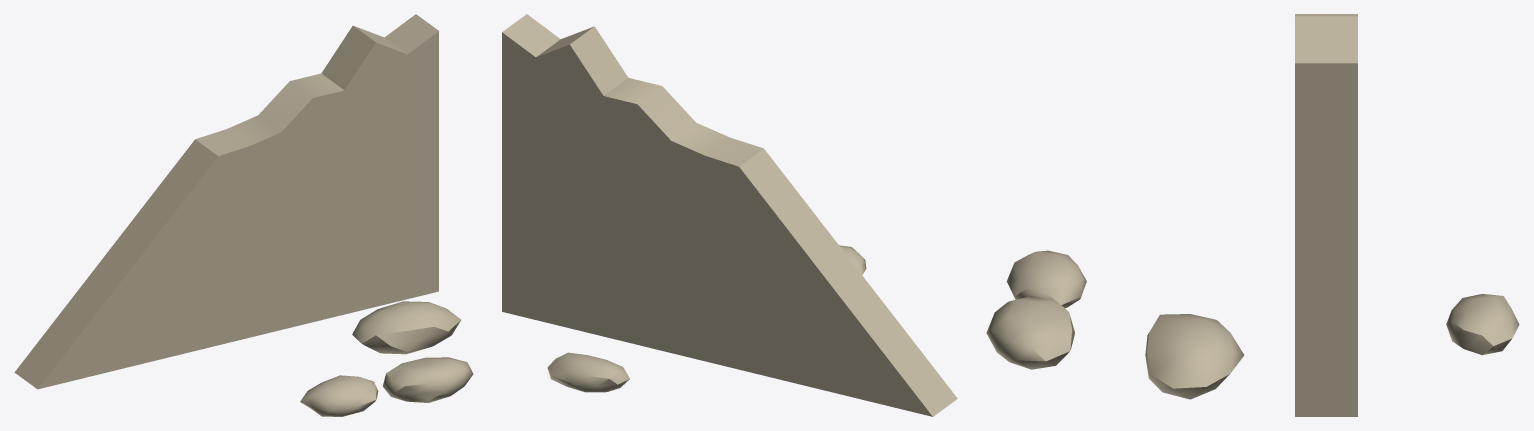
The model's file is wand_dreieck_1x1_kaputt.glb.
3 renders of one model, left to right at view 1: azimuth 30°, elevation 25°; view 2: azimuth 150°, elevation 25°; view 3: azimuth 270°, elevation 25°, orthographic. The views are drawn at different scales.
Parts seen in each view (by area): view 1: wand_dreieck_1x1_kaputt; view 2: wand_dreieck_1x1_kaputt; view 3: wand_dreieck_1x1_kaputt.
Part boxes in pixels (x1,y1,x2,y2): wand_dreieck_1x1_kaputt: (14,14,473,416); wand_dreieck_1x1_kaputt: (502,14,957,416); wand_dreieck_1x1_kaputt: (986,14,1519,416).
Bounding box in the file's own units: 1 × 0.6493 × 0.8472.
